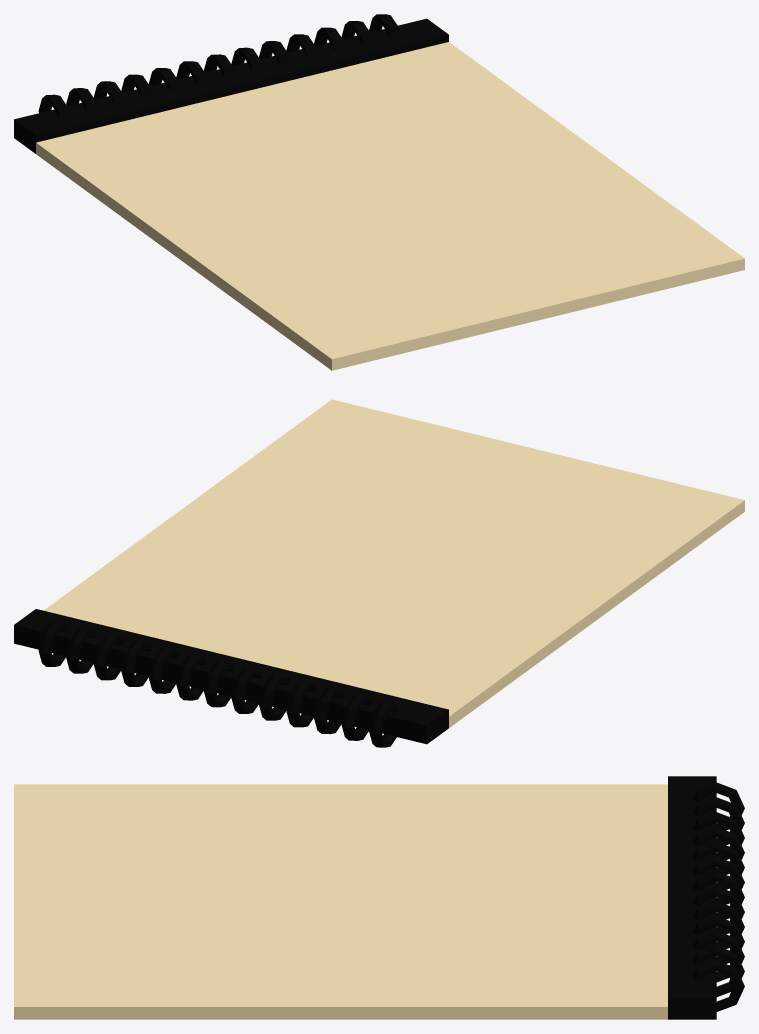
The model's file is Notebook.fbx.
3 views of the same model, one above another, from view 1: azimuth 30°, elevation 25°; view 2: azimuth 150°, elevation 25°; view 3: azimuth 270°, elevation 25° (orthographic). The views are drawn at different scales.
Parts seen in each view (by area): view 1: Cube; view 2: Cube; view 3: Cube.
Boxes of the visible parts, x1,y1,x2,y2 form: Cube: (14, 14, 744, 370); Cube: (14, 399, 744, 747); Cube: (14, 776, 744, 1019).
Bounding box in the file's own units: 150 × 16.09 × 208.
1 material, 1 textured.
